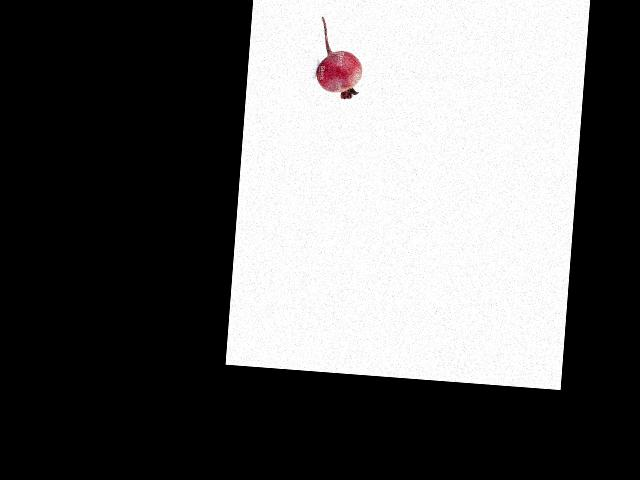beet: (314, 17, 365, 100)
